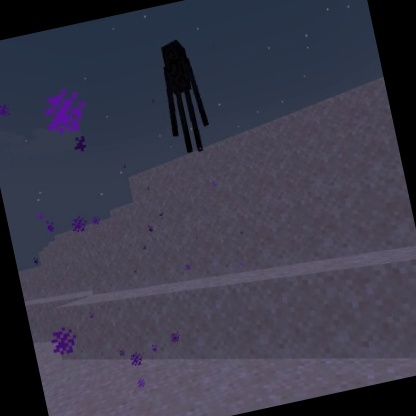enderman: (151, 33, 218, 159)
